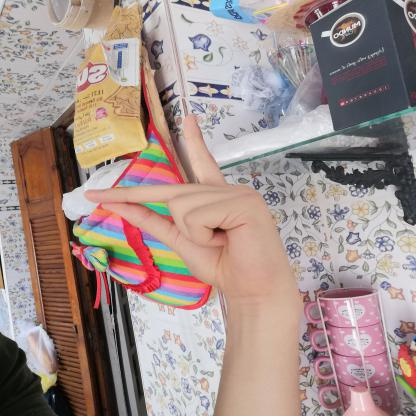TAA: (77, 105, 306, 305)
